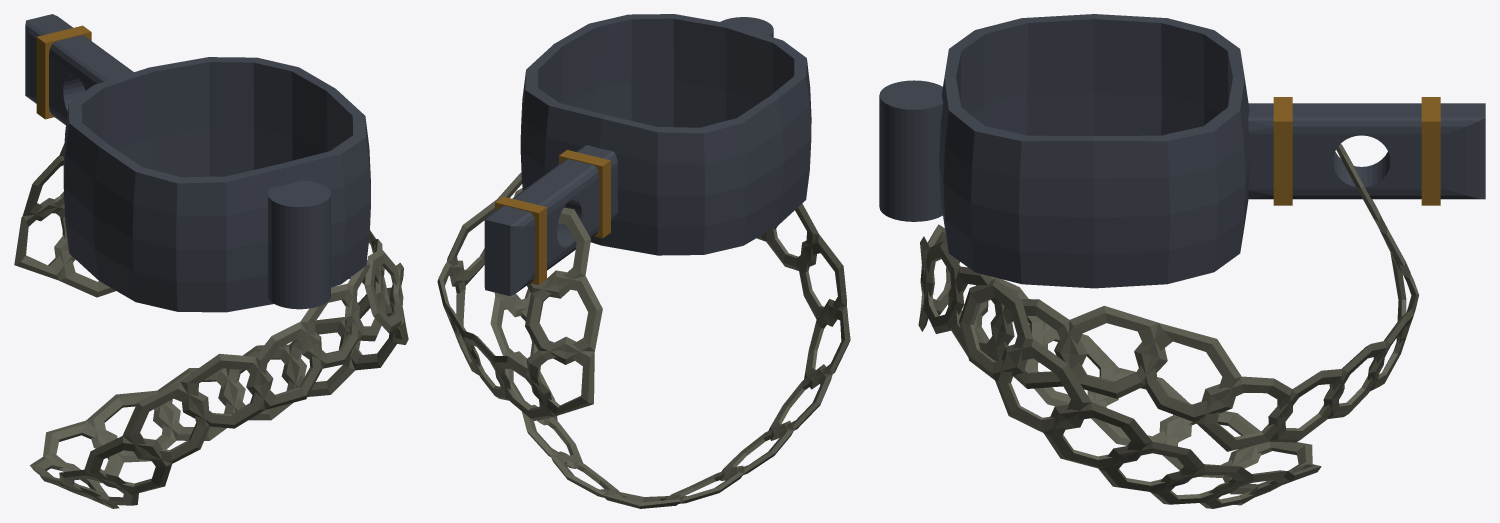
The model's file is LeadFetters.fbx.
The picture shows the model from 3 angles, left to right: view 1: azimuth 30°, elevation 25°; view 2: azimuth 150°, elevation 25°; view 3: azimuth 270°, elevation 25°; orthographic projection. The views are drawn at different scales.
Visible parts, largest first — view 1: Shackle, Chain, Lock, HingeB; view 2: Shackle, Chain, Lock, HingeB, HingeA; view 3: Shackle, Chain, Lock, HingeA, HingeB.
Boxes of the visible parts, bbox=[...] form: Shackle: bbox=[63, 57, 370, 312]; Chain: bbox=[14, 143, 408, 508]; Lock: bbox=[25, 14, 133, 124]; HingeB: bbox=[36, 25, 91, 119]; Shackle: bbox=[520, 14, 811, 255]; Chain: bbox=[437, 172, 850, 508]; Lock: bbox=[484, 145, 618, 296]; HingeB: bbox=[495, 196, 546, 285]; HingeA: bbox=[559, 150, 610, 238]; Shackle: bbox=[879, 14, 1249, 288]; Chain: bbox=[918, 144, 1418, 508]; Lock: bbox=[1248, 103, 1485, 199]; HingeA: bbox=[1273, 97, 1292, 205]; HingeB: bbox=[1421, 97, 1440, 205].
Size of the model in its own units: 286 by 325 by 407.
